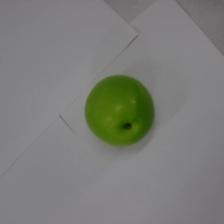green: (85, 75, 155, 148)
